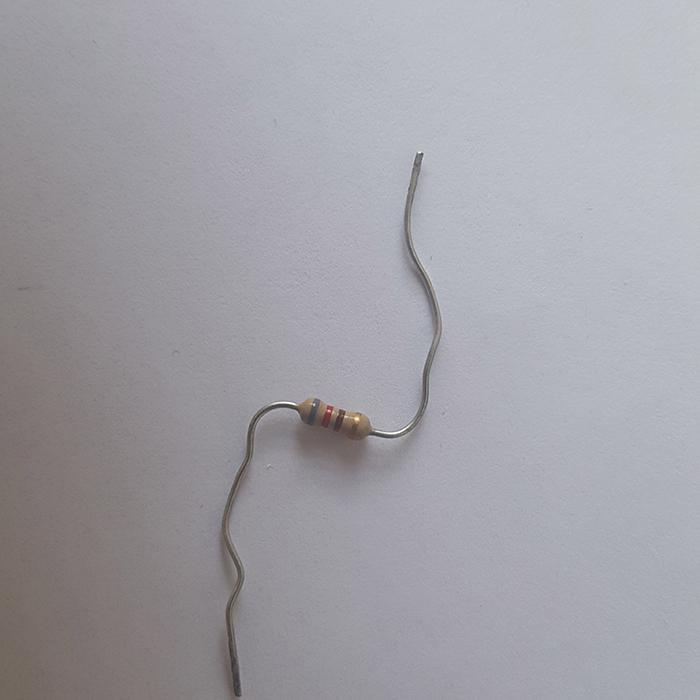resistor: (297, 395, 369, 440)
